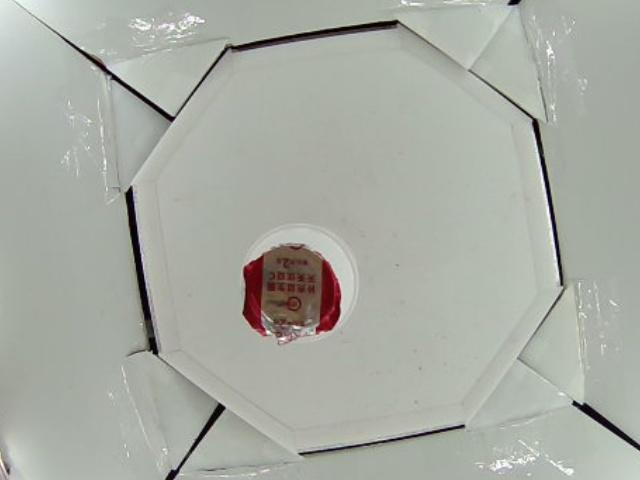Bottle: (240, 222, 361, 345)
